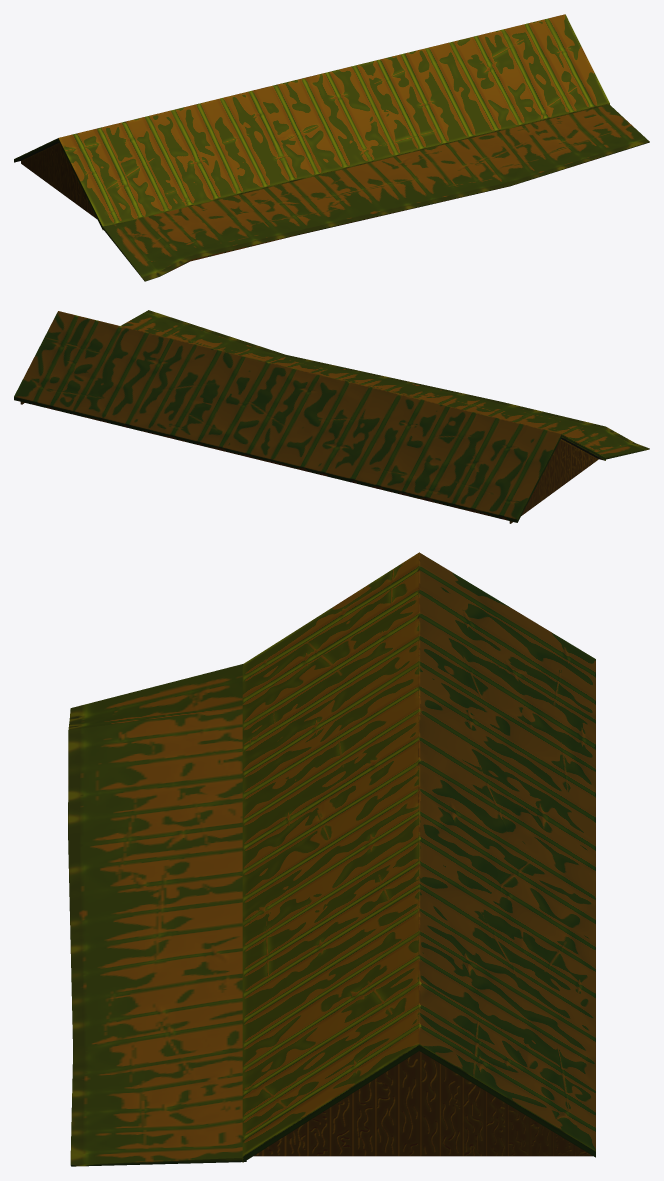
File: Metal_Roof_Spawn_House.fbx
The picture shows the model from 3 angles, top to bottom: view 1: azimuth 30°, elevation 25°; view 2: azimuth 150°, elevation 25°; view 3: azimuth 270°, elevation 25°; orthographic projection. The views are drawn at different scales.
Parts seen in each view (by area): view 1: Roof Sides_LOW; view 2: Roof Sides_LOW; view 3: Roof Sides_LOW.
Part boxes in pixels (x1,y1,x2,y2): Roof Sides_LOW: (14,14,649,281); Roof Sides_LOW: (14,310,649,523); Roof Sides_LOW: (68,552,595,1166).
Bounding box in the file's own units: 2059 × 309 × 933.
3 materials, 3 textured.
